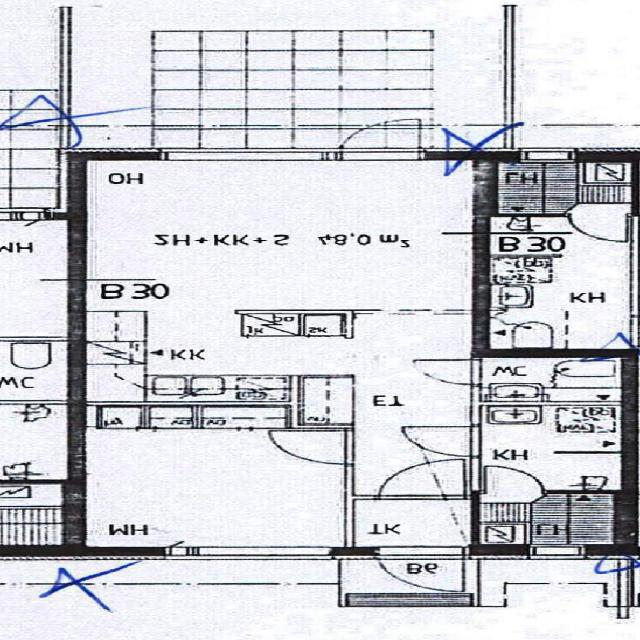door: (380, 546, 464, 594), (379, 458, 466, 499), (342, 115, 419, 160), (268, 430, 354, 463), (404, 426, 481, 455), (486, 465, 543, 494), (415, 359, 481, 384)
